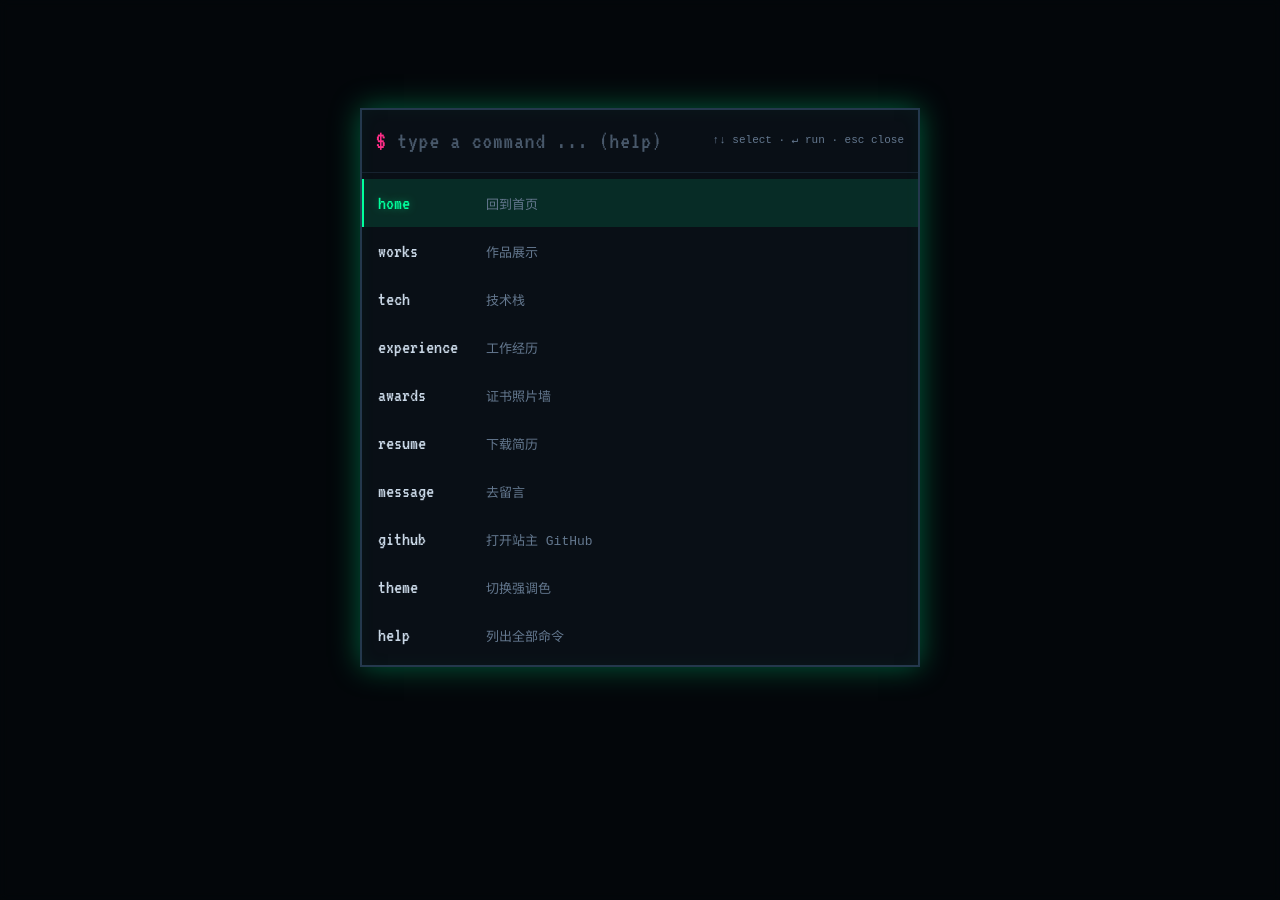
Scenario: 命令面板 CommandPalette（Spec 10） › help 列出全部命令：输入清空、面板保留
Type "help" into the field with placeholder "type a command ... (help)" at [549, 141], box x1=396 y1=128 x2=702 y2=154
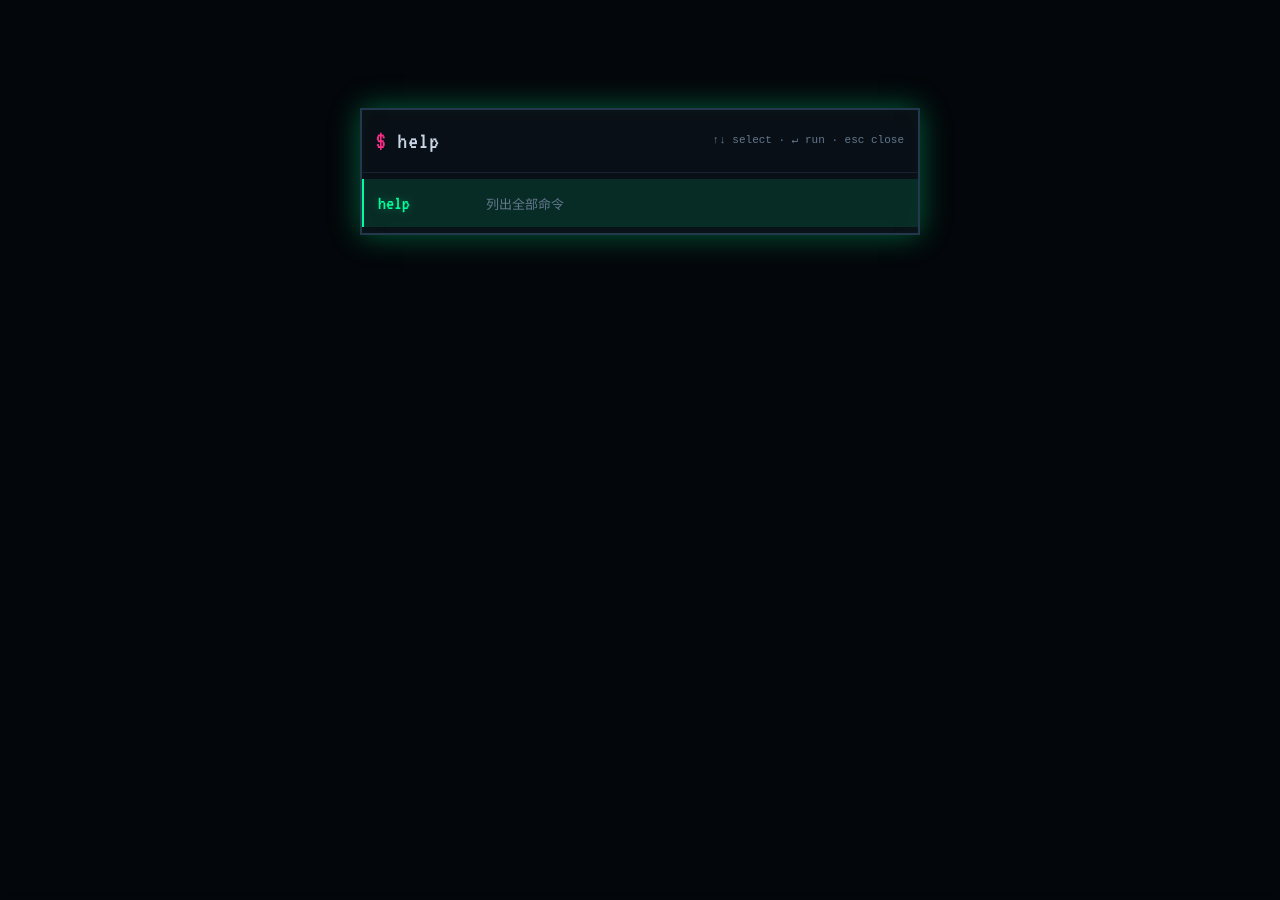
Press Enter in the field named "输入命令", box x1=396 y1=128 x2=702 y2=154
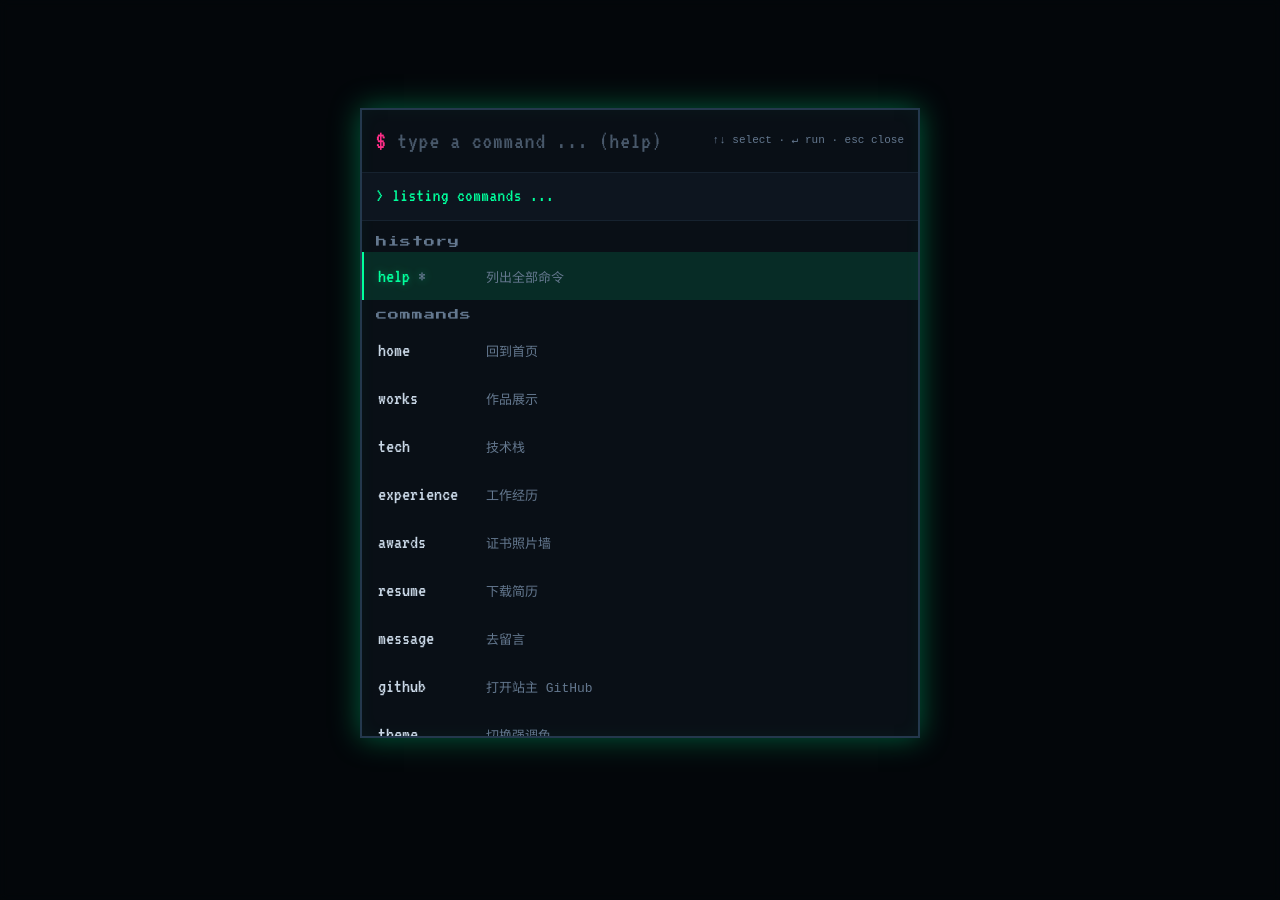
Expected: the field with placeholder "type a command ... (help)" is empty, x1=396 y1=128 x2=702 y2=154
Expected: the text with class "item-name" reads "home", x1=378 y1=340 x2=410 y2=360
Expected: the text with class "item-name" reads "works", x1=378 y1=388 x2=418 y2=408
